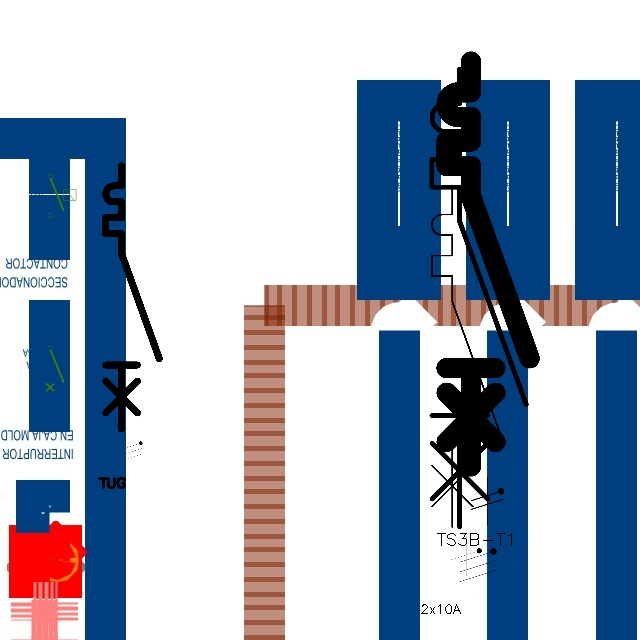interruptor_termomagnetico: (420, 57, 538, 538), (436, 51, 540, 477), (423, 180, 510, 535), (99, 159, 166, 435)
